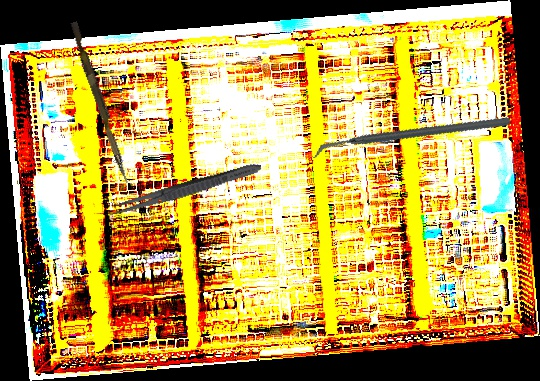Chopper: (311, 67, 512, 208)
Dressing Forceps: (106, 158, 264, 221)
Pusher: (66, 21, 135, 184)
